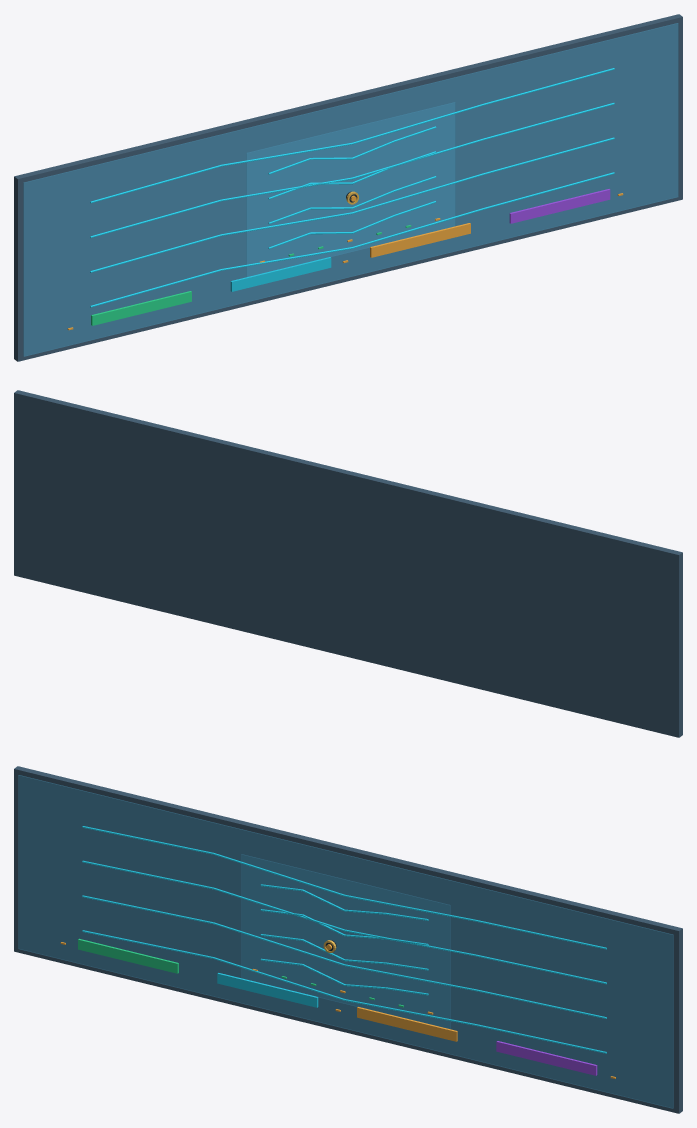
File: 61_L81_HolographicDependabilitySCADA.fbx
3 renders of one model, top to bottom at view 1: azimuth 30°, elevation 25°; view 2: azimuth 150°, elevation 25°; view 3: azimuth 330°, elevation 25°, orthographic.
Parts seen in each view (by area): view 1: HolographicDependabilitySCADA, HolographicDependabilitySCADA_Part_0042, HolographicDependabilitySCADA_Part_0041; view 2: HolographicDependabilitySCADA, HolographicDependabilitySCADA_Part_0041; view 3: HolographicDependabilitySCADA, HolographicDependabilitySCADA_Part_0042, HolographicDependabilitySCADA_Part_0041.
Boxes of the visible parts, left/top/right/bottom form: HolographicDependabilitySCADA: left=14, top=14, right=682, bottom=361; HolographicDependabilitySCADA_Part_0042: left=246, top=102, right=455, bottom=276; HolographicDependabilitySCADA_Part_0041: left=241, top=96, right=459, bottom=278; HolographicDependabilitySCADA: left=14, top=390, right=682, bottom=737; HolographicDependabilitySCADA_Part_0041: left=237, top=472, right=456, bottom=658; HolographicDependabilitySCADA: left=14, top=766, right=682, bottom=1113; HolographicDependabilitySCADA_Part_0042: left=241, top=854, right=450, bottom=1028; HolographicDependabilitySCADA_Part_0041: left=237, top=848, right=455, bottom=1030.
Size of the model in its own units: 701 by 184 by 26.85.
